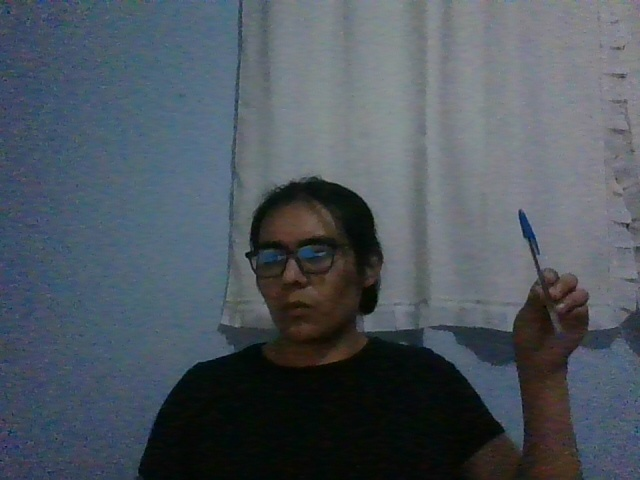pluma: (517, 208, 564, 338)
